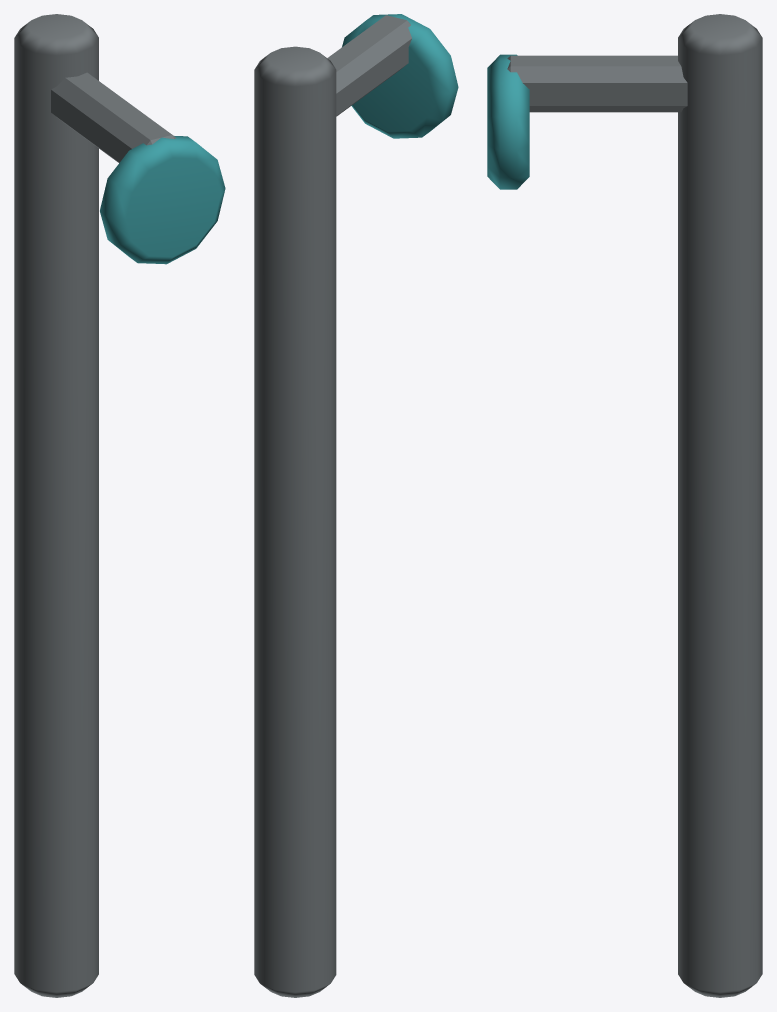
File: beach_shower_lod2_v1.glb
3 renders of one model, left to right at view 1: azimuth 30°, elevation 25°; view 2: azimuth 150°, elevation 25°; view 3: azimuth 270°, elevation 25°, orthographic. The views are drawn at different scales.
Parts seen in each view (by area): view 1: LOD2_BEACH_SHOWER_Post, LOD2_BEACH_SHOWER_Head, LOD2_BEACH_SHOWER_Arm; view 2: LOD2_BEACH_SHOWER_Post, LOD2_BEACH_SHOWER_Head, LOD2_BEACH_SHOWER_Arm; view 3: LOD2_BEACH_SHOWER_Post, LOD2_BEACH_SHOWER_Arm, LOD2_BEACH_SHOWER_Head.
Boxes of the visible parts, <box> form: LOD2_BEACH_SHOWER_Post: <box>14,14,98,997</box>; LOD2_BEACH_SHOWER_Head: <box>100,136,225,264</box>; LOD2_BEACH_SHOWER_Arm: <box>51,72,176,162</box>; LOD2_BEACH_SHOWER_Post: <box>254,46,336,997</box>; LOD2_BEACH_SHOWER_Head: <box>342,14,458,138</box>; LOD2_BEACH_SHOWER_Arm: <box>327,15,411,116</box>; LOD2_BEACH_SHOWER_Post: <box>678,14,762,997</box>; LOD2_BEACH_SHOWER_Arm: <box>507,55,687,112</box>; LOD2_BEACH_SHOWER_Head: <box>487,54,529,189</box>.
Size of what is drawn, in the model's own units: 0.32 by 2.5 by 0.65.
